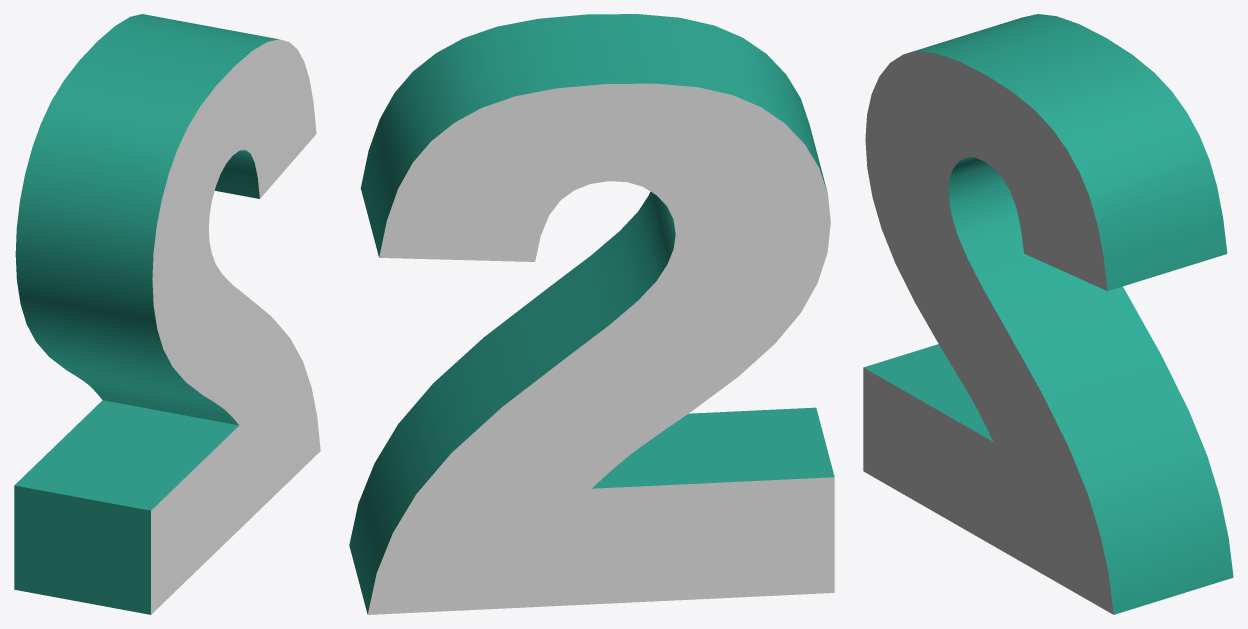
Rendered from text2xxx.gltf.
3 renders of one model, left to right at view 1: azimuth 30°, elevation 25°; view 2: azimuth 150°, elevation 25°; view 3: azimuth 270°, elevation 25°, orthographic. The views are drawn at different scales.
Visible parts, largest first — view 1: polySurface9; view 2: polySurface9; view 3: polySurface9.
Boxes of the visible parts, bbox=[...] form: polySurface9: bbox=[14, 14, 320, 614]; polySurface9: bbox=[349, 14, 834, 614]; polySurface9: bbox=[863, 14, 1233, 614].
Size of the model in its own units: 0.0639 by 0.0768 by 0.0552.
1 material, 1 textured.
